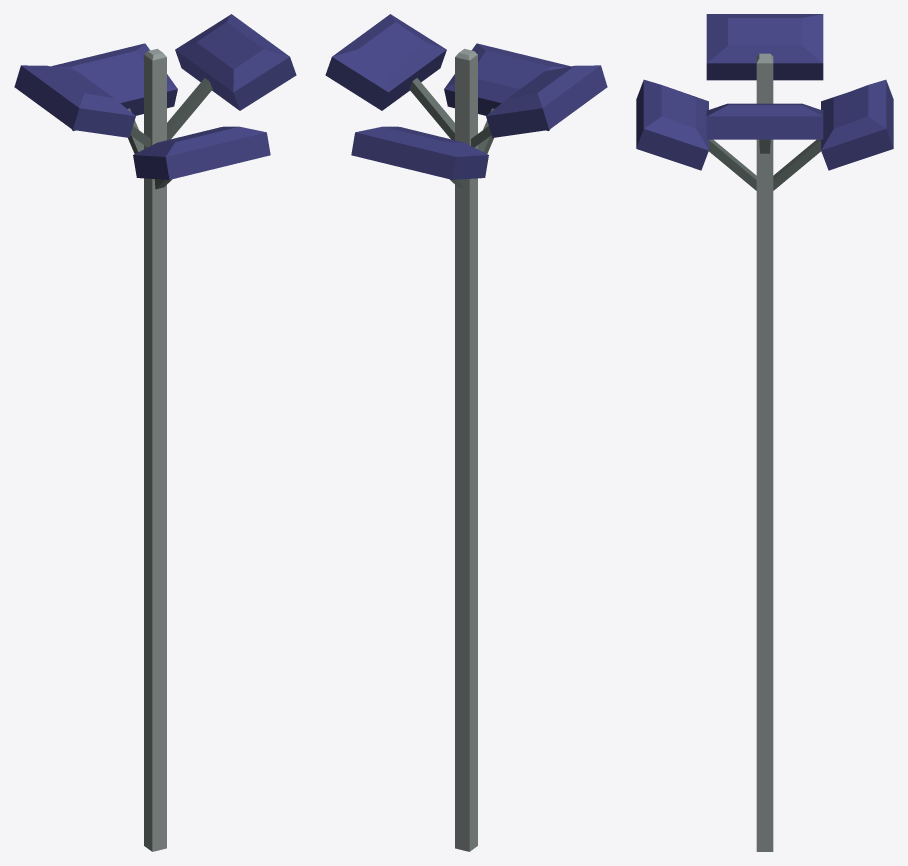
File: PG_LightPost.fbx
3 views of the same model, side by side, from view 1: azimuth 30°, elevation 25°; view 2: azimuth 150°, elevation 25°; view 3: azimuth 270°, elevation 25° (orthographic).
Visible parts, largest first — view 1: PG_LightPost; view 2: PG_LightPost; view 3: PG_LightPost.
Boxes of the visible parts, x1,y1,x2,y2 form: PG_LightPost: (14, 14, 296, 851); PG_LightPost: (325, 14, 607, 851); PG_LightPost: (636, 14, 893, 851).
Size of the model in its own units: 136 by 460 by 136.
